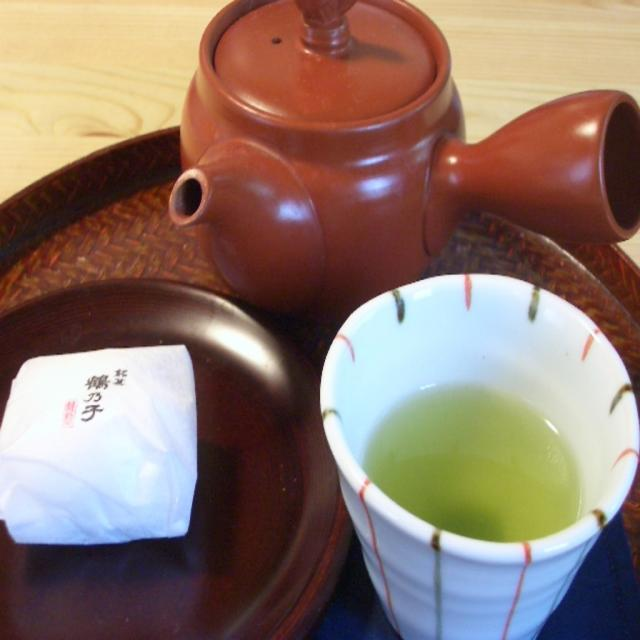Tea: (363, 384, 583, 543)
